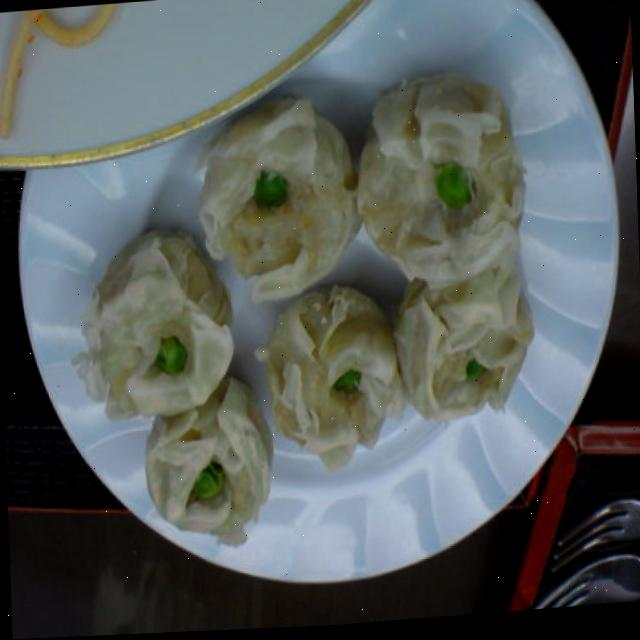带馅早点: (48, 76, 544, 578)
